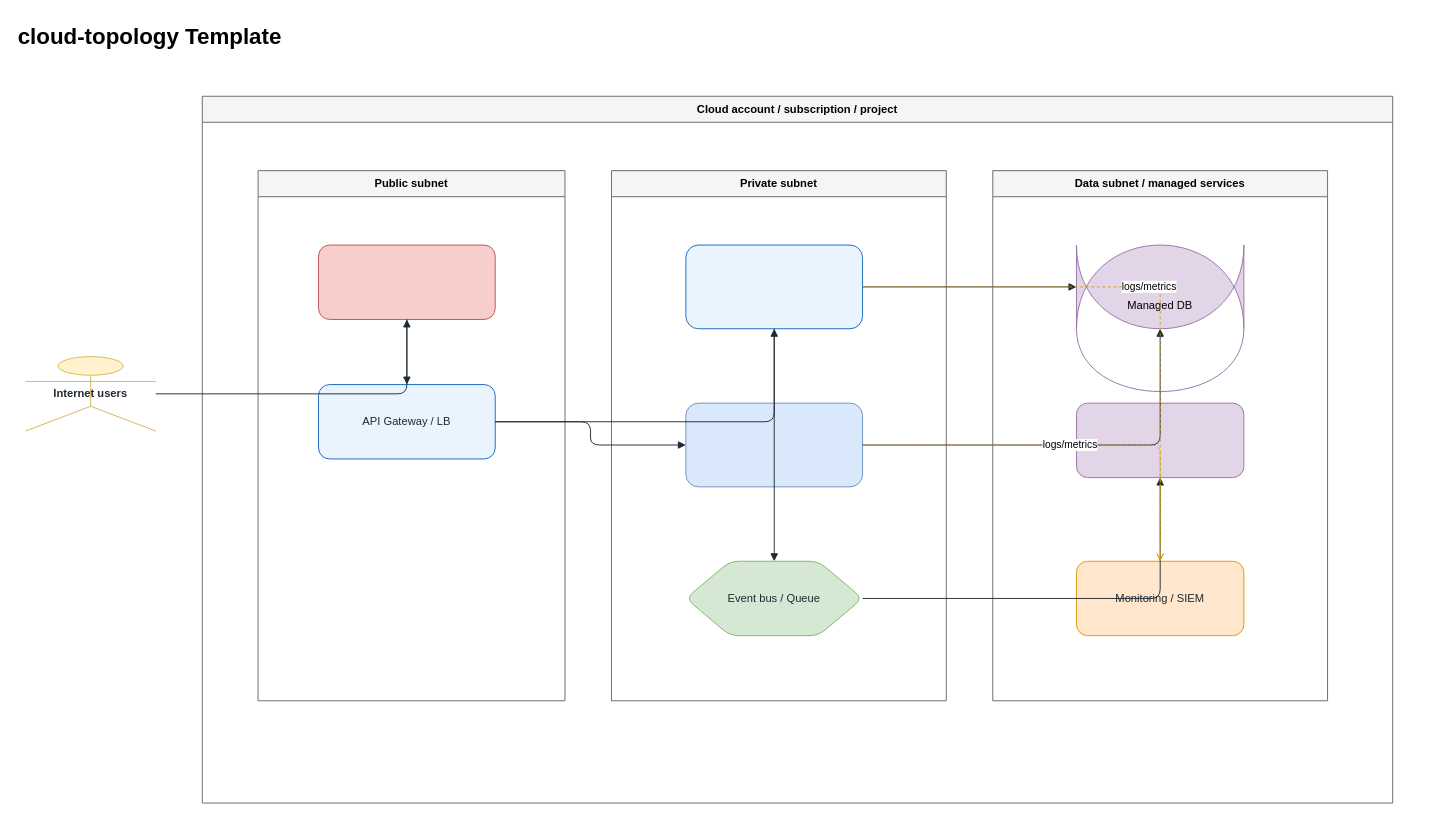
This 1445x819 diagram has some shape labels left out. The shapes that lost their labels are listed below. From the top down, each one's box as (x1, y1, x2, y2) in pixels, then its label:
(318, 244, 495, 319): DNS / CDN / WAF
(685, 244, 863, 329): Compute containers / functions / VMs
(685, 402, 863, 487): Kubernetes / App Platform
(1076, 402, 1244, 478): Object Storage / Lake
